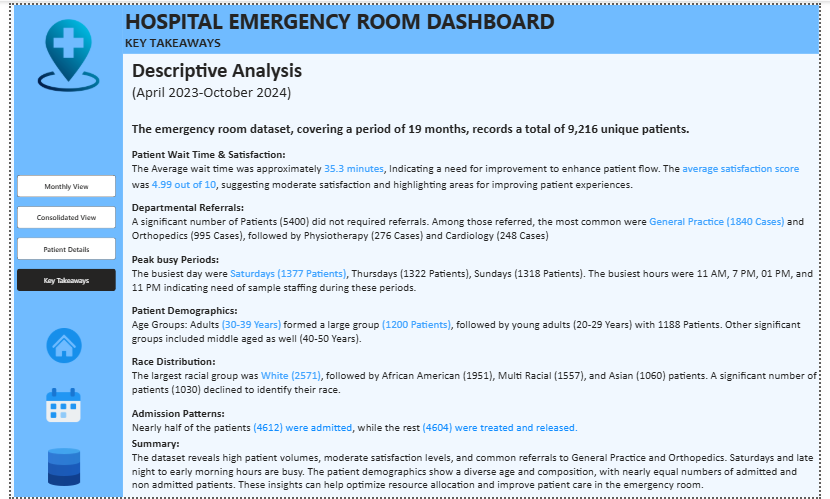

The page's visual inventory and layout, read from the dashboard file:
{"tool":"powerbi","page":{"name":"Key Takeaways","canvas":[2300,1400],"ordinal":3},"visuals":[{"type":"shape","box":[9.1,0,310,1400.5],"z":0},{"type":"shape","box":[318.7,0,1980.5,139.4],"z":1000},{"type":"textbox","box":[319.9,0,1252.6,111.7],"z":2000},{"type":"textbox","box":[318.7,79.7,398.4,65.4],"z":3000},{"type":"image","box":[59.8,34.1,207.7,219.1],"z":4000},{"type":"textbox","box":[338.6,290.2,1619.1,111],"z":5000},{"type":"textbox","box":[338.6,145.1,552,145.1],"z":6000},{"type":"textbox","box":[338.6,401.2,1960.6,150.8],"z":7000},{"type":"textbox","box":[338.6,552,1940.7,148],"z":8000},{"type":"textbox","box":[338.6,700,1960.6,145.1],"z":9000},{"type":"textbox","box":[338.6,845.1,1960.6,145.1],"z":10000},{"type":"textbox","box":[338.6,990.2,1960.6,148],"z":11000},{"type":"textbox","box":[338.6,1138.2,1308.9,108.1],"z":12000},{"type":"textbox","box":[338.6,1223.6,1960.6,176.4],"z":13000},{"type":"pageNavigator","box":[17.1,483.7,281.7,332.9],"z":13001},{"type":"image","box":[17.1,919.1,267.5,99.6],"z":13002},{"type":"image","box":[25.6,1089.8,247.6,96.7],"z":13003},{"type":"image","box":[82.5,1237.8,136.6,153.7],"z":13004}]}

Visuals, with their boxes on the page's 2300x1400 design canvas (x1, y1, x2, y2). These are canvas units, not pixel positions in the 830x499 screenshot, which may show the page scaled, cropped or inside an application window:
shape: bbox(9, 0, 319, 1400)
shape: bbox(319, 0, 2299, 139)
textbox: bbox(320, 0, 1572, 112)
textbox: bbox(319, 80, 717, 145)
image: bbox(60, 34, 268, 253)
textbox: bbox(339, 290, 1958, 401)
textbox: bbox(339, 145, 891, 290)
textbox: bbox(339, 401, 2299, 552)
textbox: bbox(339, 552, 2279, 700)
textbox: bbox(339, 700, 2299, 845)
textbox: bbox(339, 845, 2299, 990)
textbox: bbox(339, 990, 2299, 1138)
textbox: bbox(339, 1138, 1648, 1246)
textbox: bbox(339, 1224, 2299, 1400)
pageNavigator: bbox(17, 484, 299, 817)
image: bbox(17, 919, 285, 1019)
image: bbox(26, 1090, 273, 1186)
image: bbox(82, 1238, 219, 1392)
